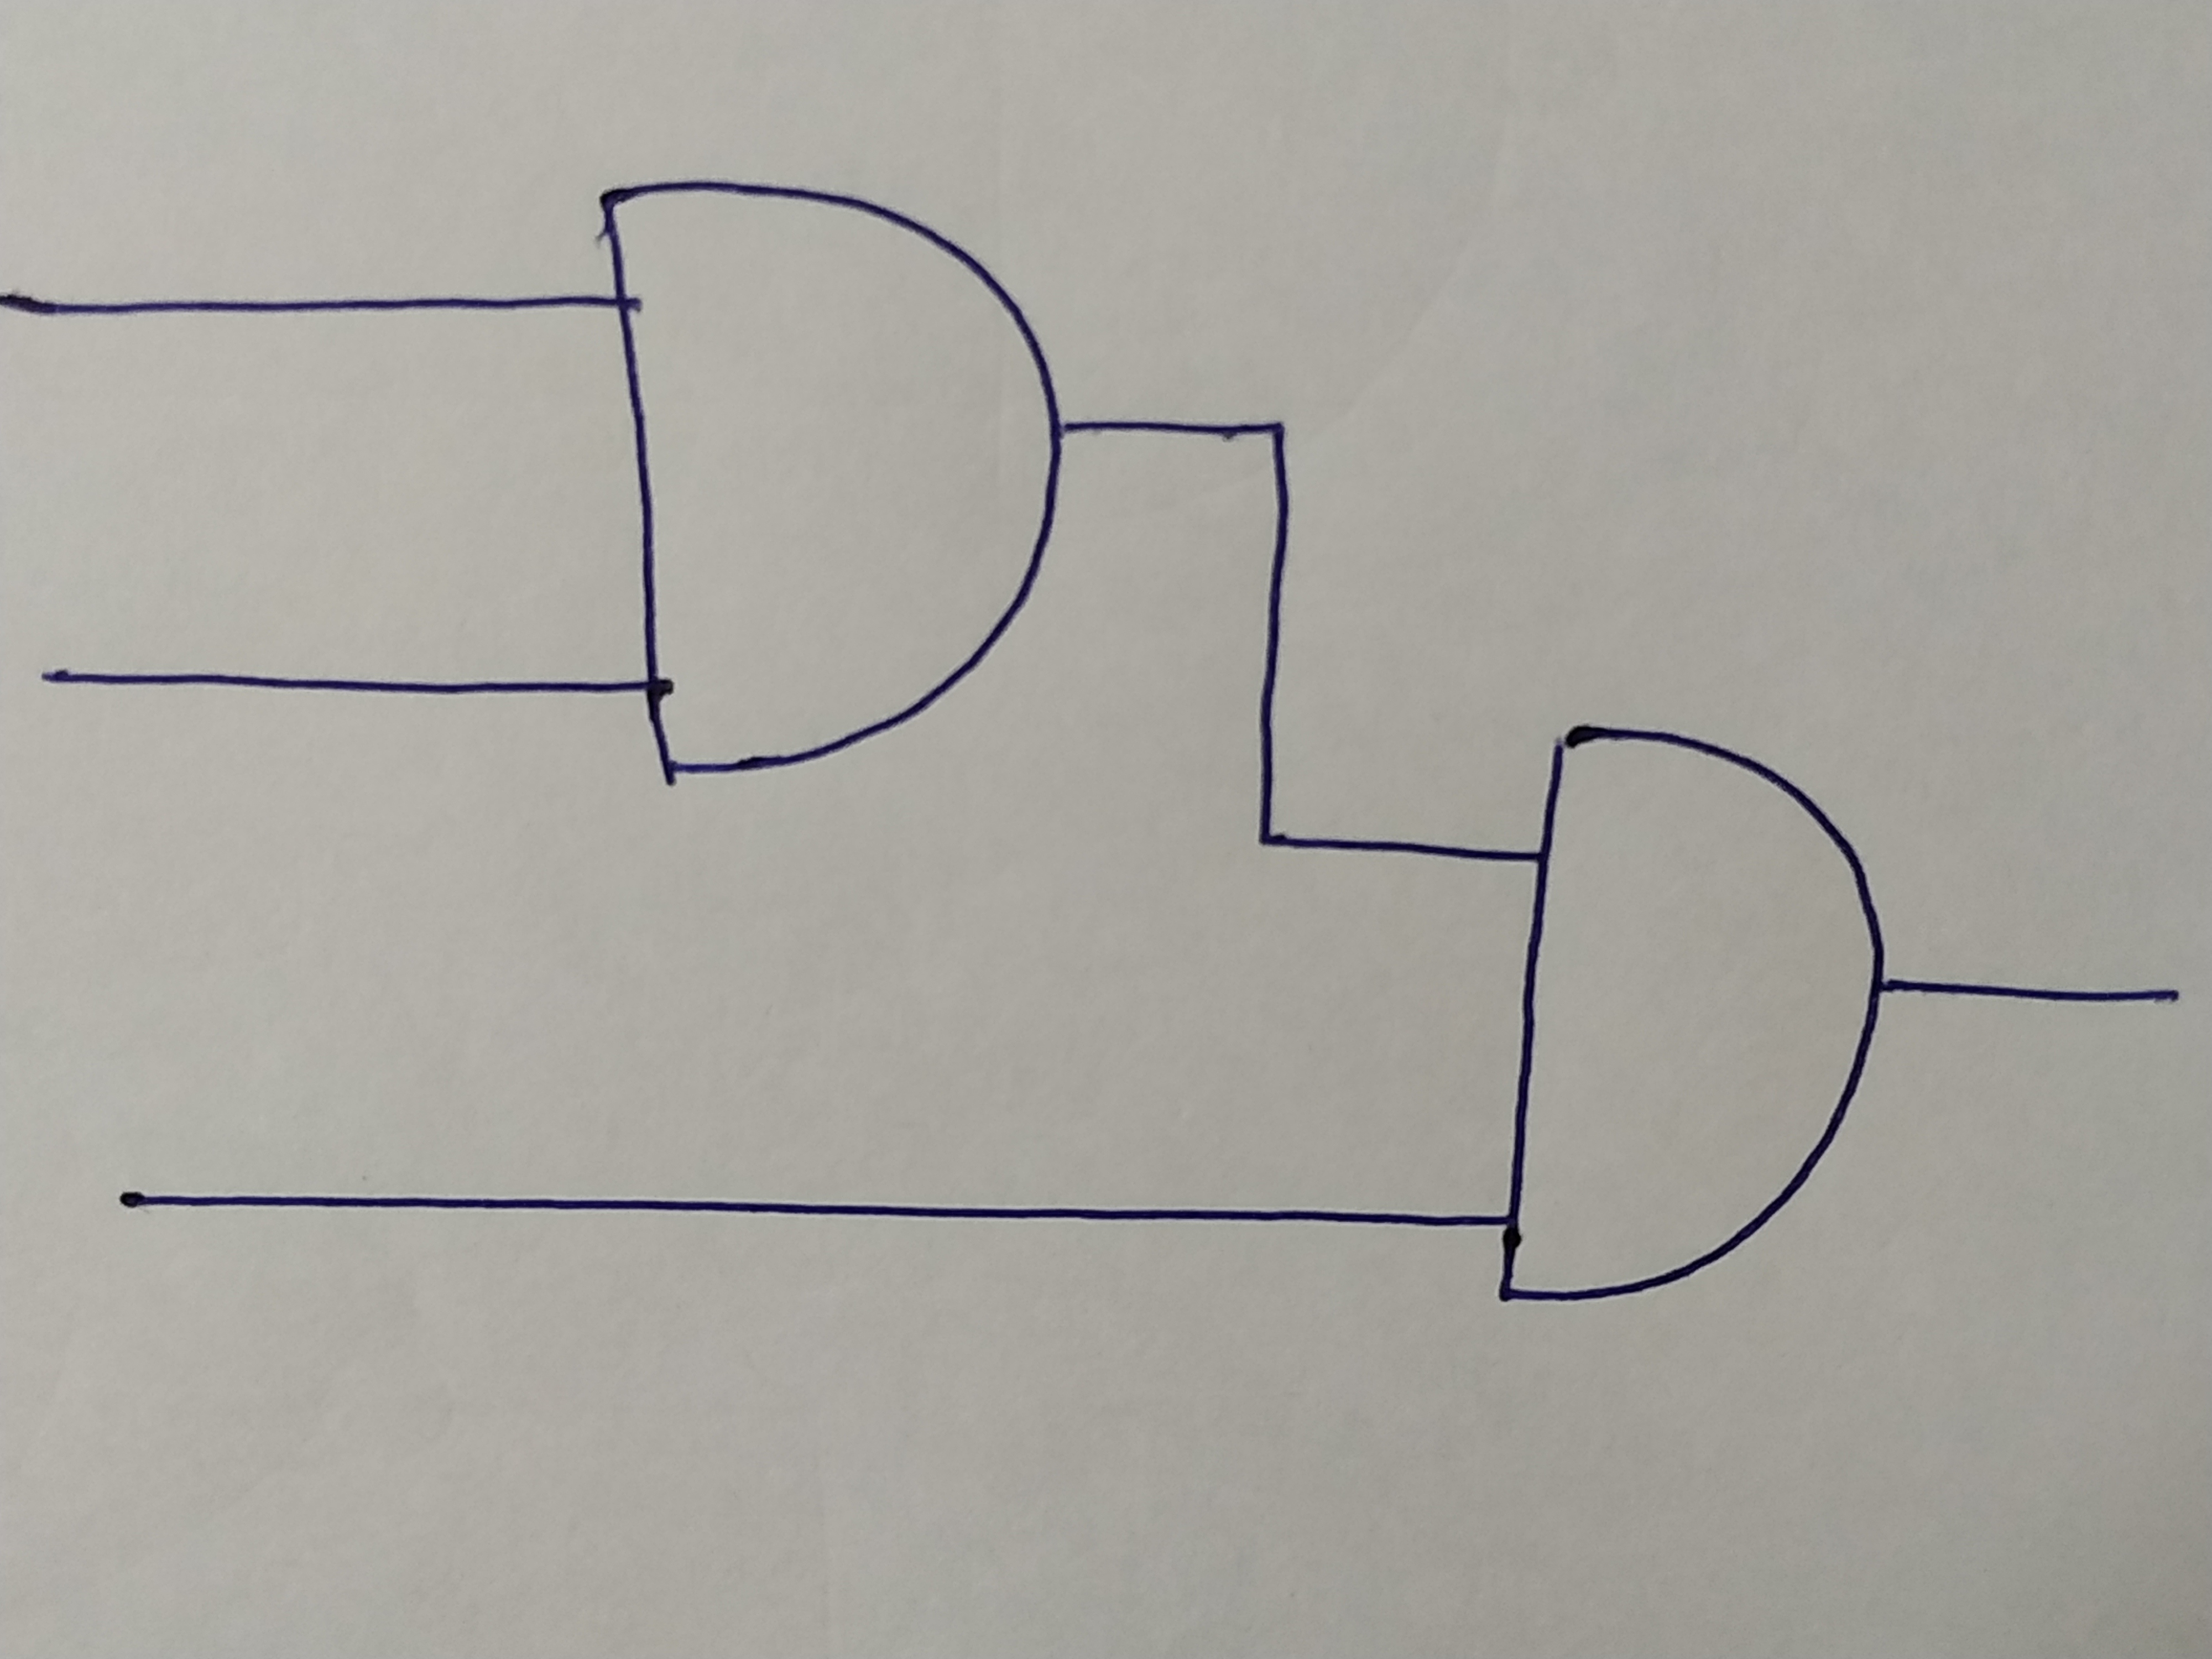and: (592, 183, 1066, 784), (1491, 723, 1886, 1303)
